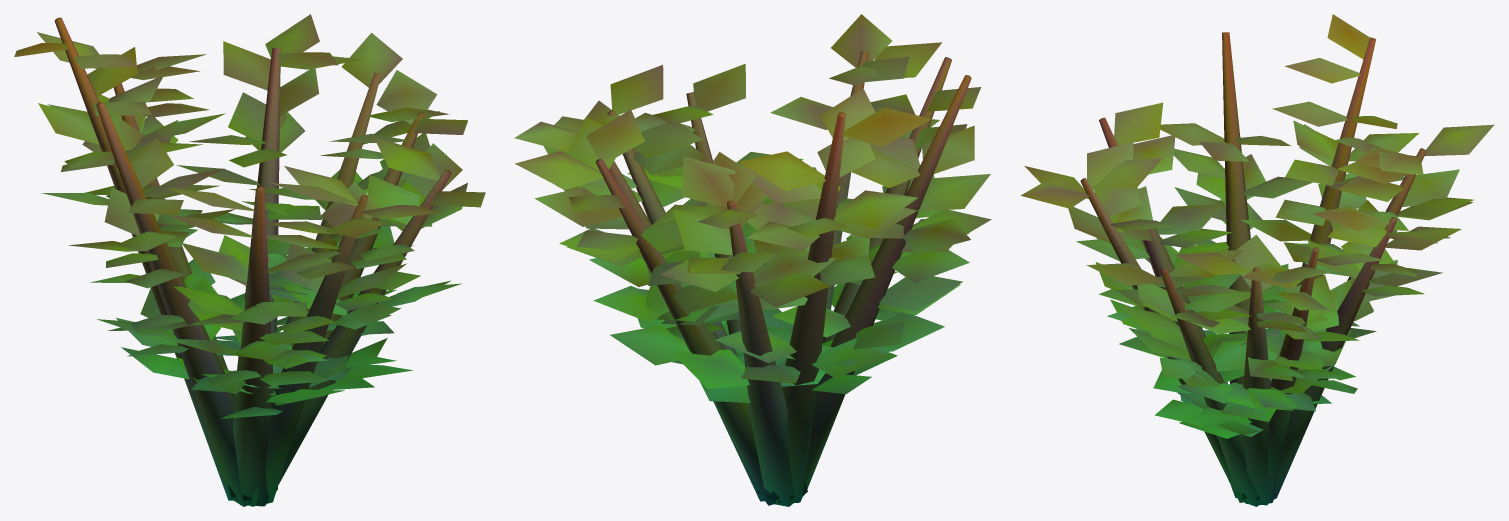
Rendered from Shrub_B.fbx.
The picture shows the model from 3 angles, left to right: view 1: azimuth 30°, elevation 25°; view 2: azimuth 150°, elevation 25°; view 3: azimuth 270°, elevation 25°; orthographic projection. The views are drawn at different scales.
Parts seen in each view (by area): view 1: Shrub_B; view 2: Shrub_B; view 3: Shrub_B.
Boxes of the visible parts, <box> form: Shrub_B: <box>14,14,485,506</box>; Shrub_B: <box>514,14,991,506</box>; Shrub_B: <box>1020,14,1494,506</box>.
Bounding box in the file's own units: 0.344 × 0.3737 × 0.3949.
